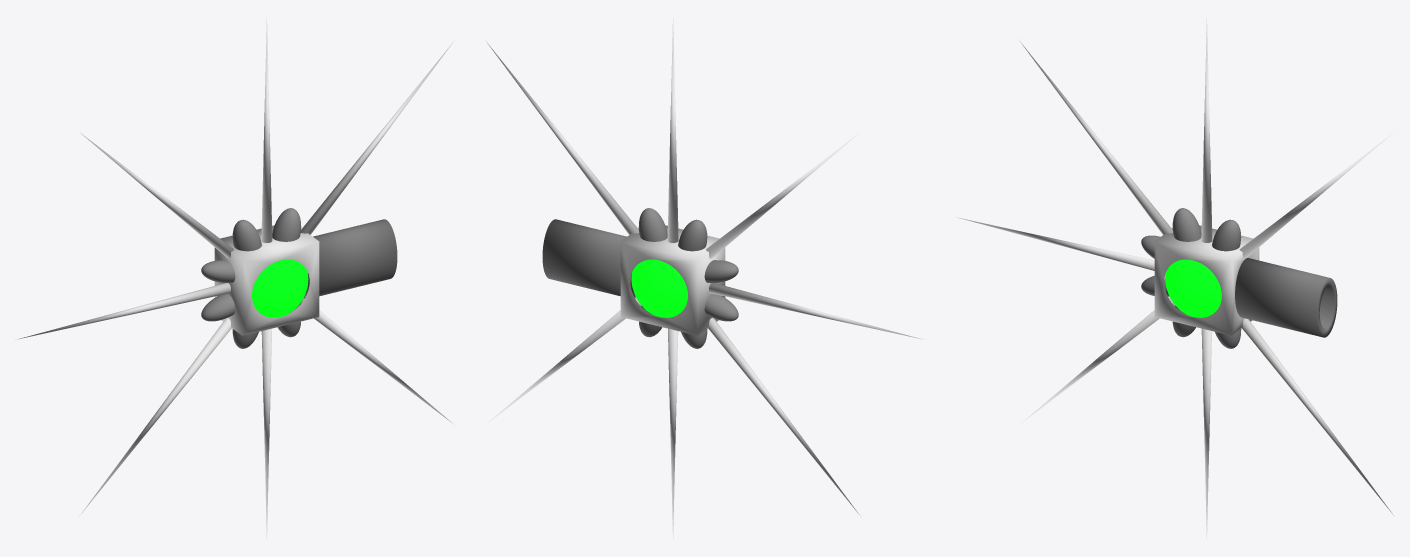
Rendered from BlasterShip(Model).fbx.
3 renders of one model, left to right at view 1: azimuth 30°, elevation 25°; view 2: azimuth 150°, elevation 25°; view 3: azimuth 330°, elevation 25°, orthographic.
Parts seen in each view (by area): view 1: Sphere; view 2: Sphere; view 3: Sphere.
Boxes of the visible parts, x1,y1,x2,y2 form: Sphere: [18, 18, 453, 538]; Sphere: [486, 18, 921, 538]; Sphere: [958, 18, 1393, 538].
Bounding box in the file's own units: 183 × 210 × 30.
